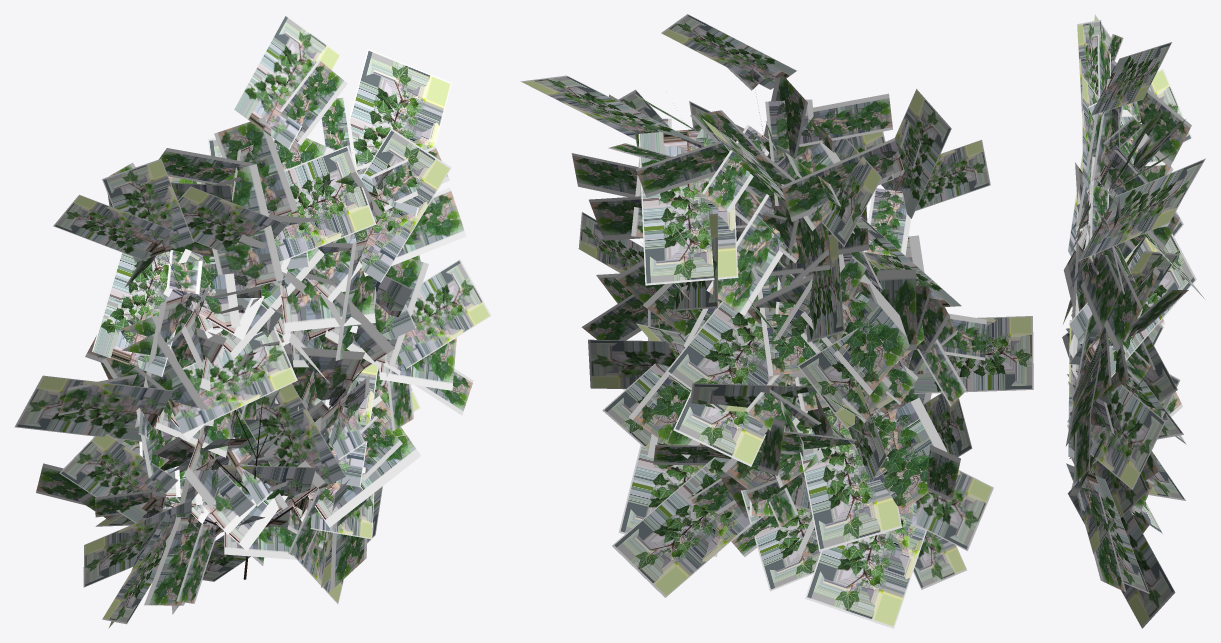
Rendered from Ivy3.fbx.
3 views of the same model, side by side, from view 1: azimuth 30°, elevation 25°; view 2: azimuth 150°, elevation 25°; view 3: azimuth 270°, elevation 25° (orthographic). The views are drawn at different scales.
Visible parts, largest first — view 1: Ivy3; view 2: Ivy3; view 3: Ivy3.
Boxes of the visible parts, x1,y1,x2,y2 form: Ivy3: (14,14,491,628); Ivy3: (520,14,1033,628); Ivy3: (1062,14,1205,628).
Size of the model in its own units: 383 by 460 by 106.
